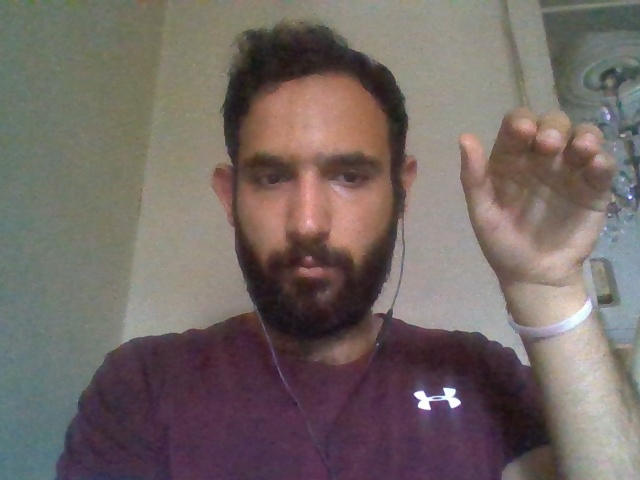Snake: (437, 95, 640, 480)
